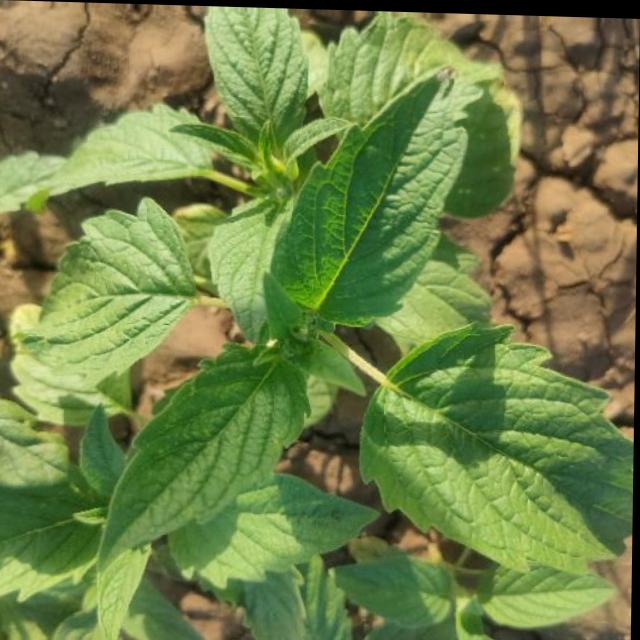crop: (4, 4, 622, 640)
